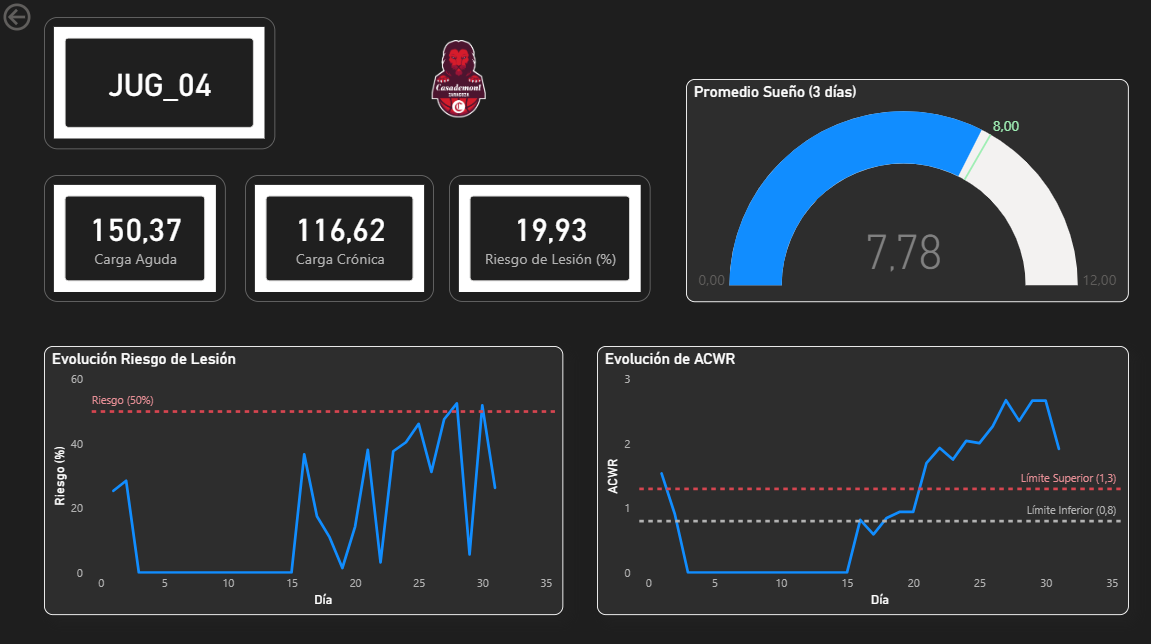

Layout of this report page (visuals, bound fields, positions):
{"tool":"powerbi","page":{"name":"DrillThrought","canvas":[1280,720],"ordinal":1},"visuals":[{"type":"lineChart","title":"Evolución de ACWR","fields":{"Y":["Avg(dataset_powerbi_casademont.acwr)"],"Category":["dataset_powerbi_casademont.Fecha.Variación.Jerarquía de fechas.Día"]},"box":[664.4,385.6,591.1,298.9],"z":0},{"type":"lineChart","title":"Evolución Riesgo de Lesión","fields":{"Category":["dataset_powerbi_casademont.Fecha.Variación.Jerarquía de fechas.Día"],"Y":["Avg(dataset_powerbi_casademont.Riesgo_Lesion_%)"]},"box":[50,385.6,576.7,298.9],"z":1000},{"type":"cardVisual","fields":{"Data":["Min(dataset_powerbi_casademont.ID_Jugador)"]},"box":[50,20,256.7,146.7],"z":2000},{"type":"gauge","fields":{"Y":["Avg(dataset_powerbi_casademont.media_sueno_3d)"]},"box":[763.3,88.9,492.2,247.8],"z":3000},{"type":"actionButton","box":[0,0,100,40],"z":4000},{"type":"cardVisual","fields":{"Data":["Avg(dataset_powerbi_casademont.carga_aguda)"]},"box":[50,195.6,202.2,141.1],"z":5000},{"type":"cardVisual","fields":{"Data":["Avg(dataset_powerbi_casademont.carga_cronica)"]},"box":[273.3,195.6,210,141.1],"z":6000},{"type":"image","box":[467.8,45.6,86.7,85.6],"z":7000},{"type":"cardVisual","fields":{"Data":["Avg(dataset_powerbi_casademont.Riesgo_Lesion_%)"]},"box":[500,195.6,224.4,141.1],"z":7001}]}

Visuals, with their boxes in screenshot pixels (x1, y1, x2, y2), scaled from the page's 1280x720 canvas onto the 1151x644 screenshot:
"Evolución de ACWR" lineChart: l=597, t=345, r=1129, b=612
"Evolución Riesgo de Lesión" lineChart: l=45, t=345, r=564, b=612
cardVisual - Min(dataset_powerbi_casademont.ID_Jugador): l=45, t=18, r=276, b=149
gauge - Avg(dataset_powerbi_casademont.media_sueno_3d): l=686, t=80, r=1129, b=301
actionButton: l=0, t=0, r=90, b=36
cardVisual - Avg(dataset_powerbi_casademont.carga_aguda): l=45, t=175, r=227, b=301
cardVisual - Avg(dataset_powerbi_casademont.carga_cronica): l=246, t=175, r=435, b=301
image: l=421, t=41, r=499, b=117
cardVisual - Avg(dataset_powerbi_casademont.Riesgo_Lesion_%): l=450, t=175, r=651, b=301
